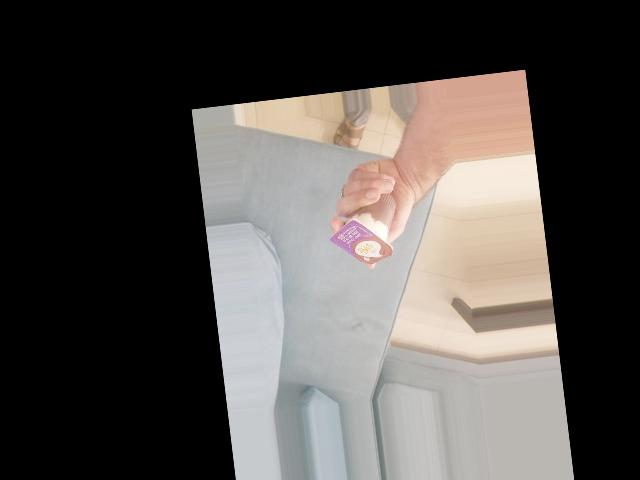milky: (257, 245, 341, 321)
